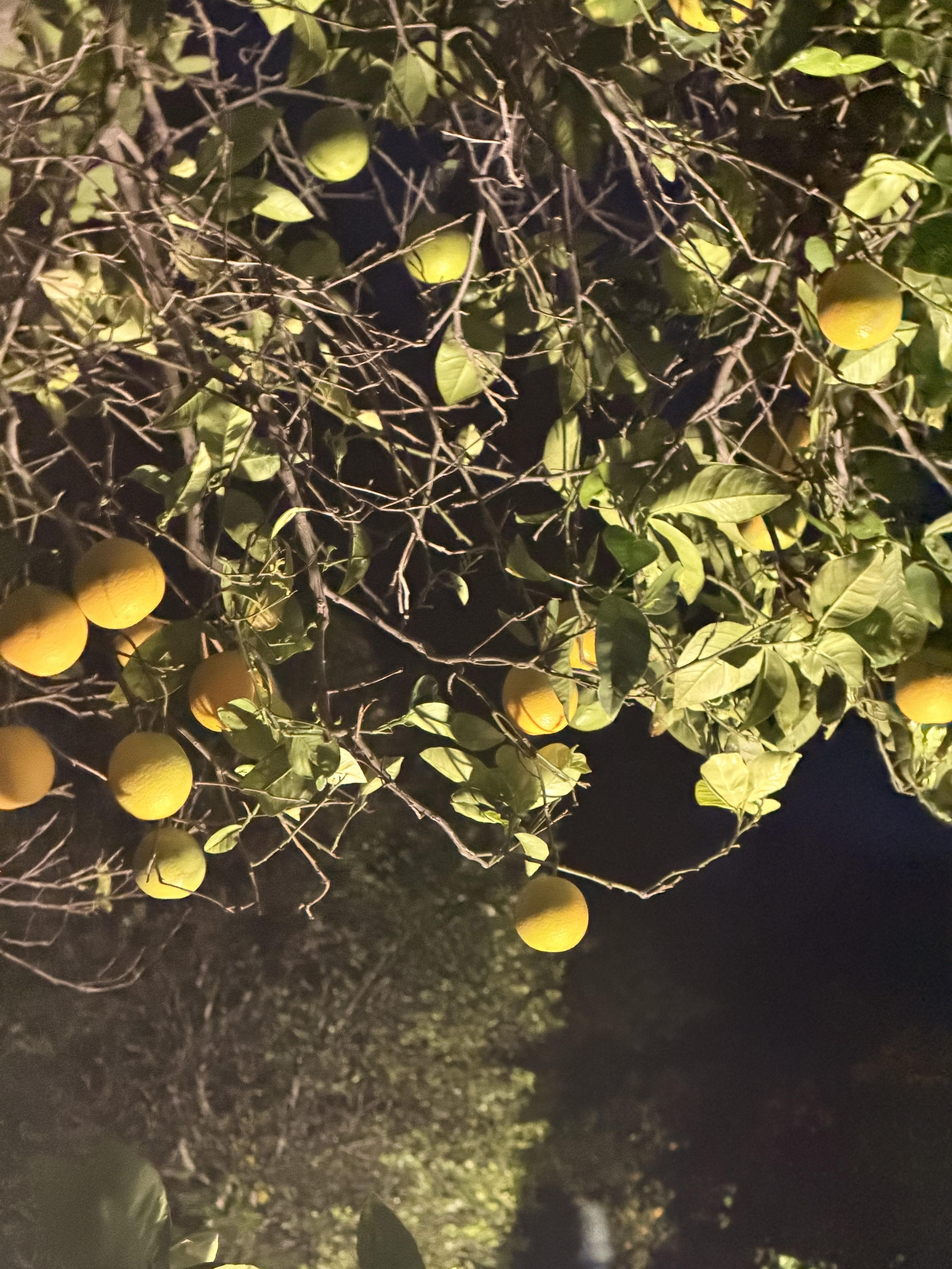orange: (73, 538, 165, 628), (0, 584, 88, 676), (817, 261, 902, 350), (108, 732, 192, 820), (514, 873, 588, 952), (189, 651, 256, 731), (502, 666, 579, 735), (133, 828, 205, 899), (302, 107, 370, 182), (402, 214, 470, 283), (0, 726, 55, 810), (737, 491, 810, 551), (895, 648, 952, 724), (666, 0, 753, 32), (558, 602, 598, 670), (115, 616, 164, 669)
